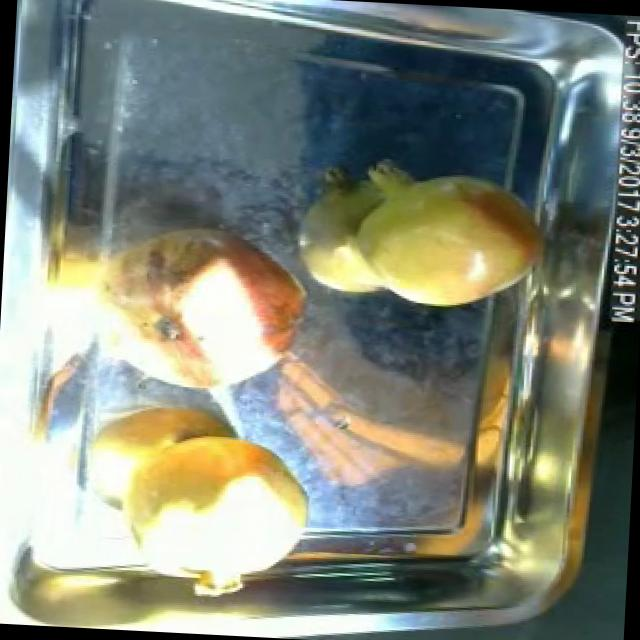fruit: (77, 416, 324, 612), (94, 206, 326, 412), (335, 151, 567, 328)
